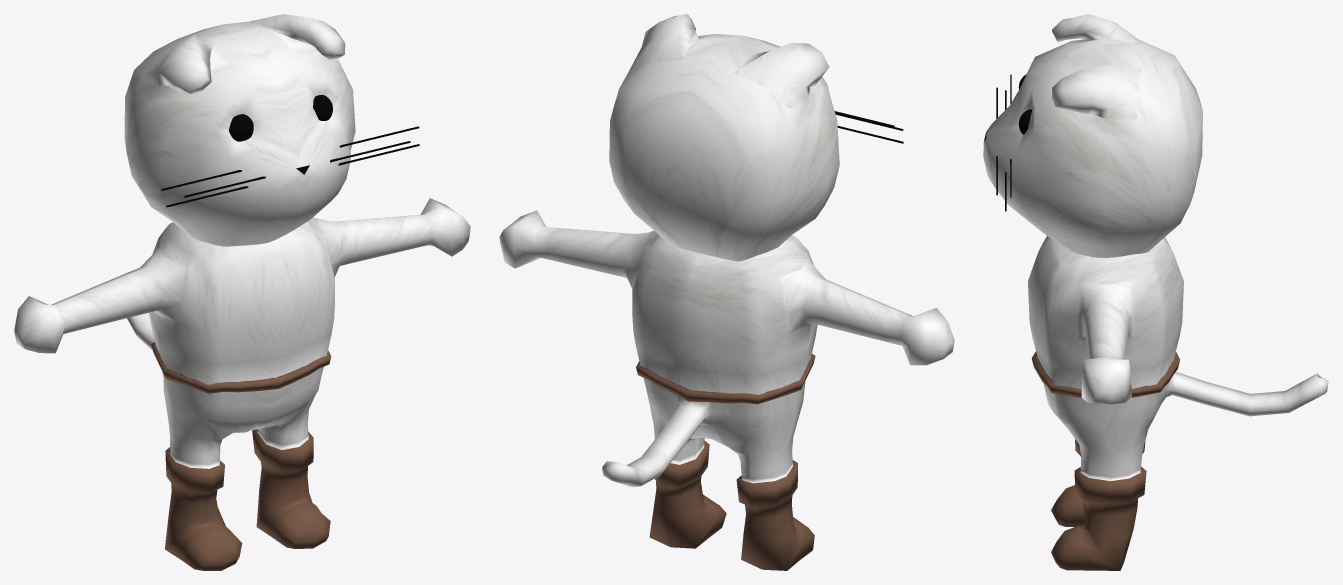
Rendered from CootsFinal.fbx.
The picture shows the model from 3 angles, left to right: view 1: azimuth 30°, elevation 25°; view 2: azimuth 150°, elevation 25°; view 3: azimuth 270°, elevation 25°; orthographic projection. The views are drawn at different scales.
Visible parts, largest first — view 1: body; view 2: body; view 3: body.
Boxes of the visible parts, bbox=[...] form: body: bbox=[14, 14, 470, 570]; body: bbox=[499, 14, 954, 570]; body: bbox=[983, 14, 1328, 570].
Size of the model in its own units: 98.07 by 108 by 67.45.
